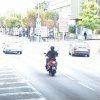Motorcycle: (42, 45, 66, 83)
